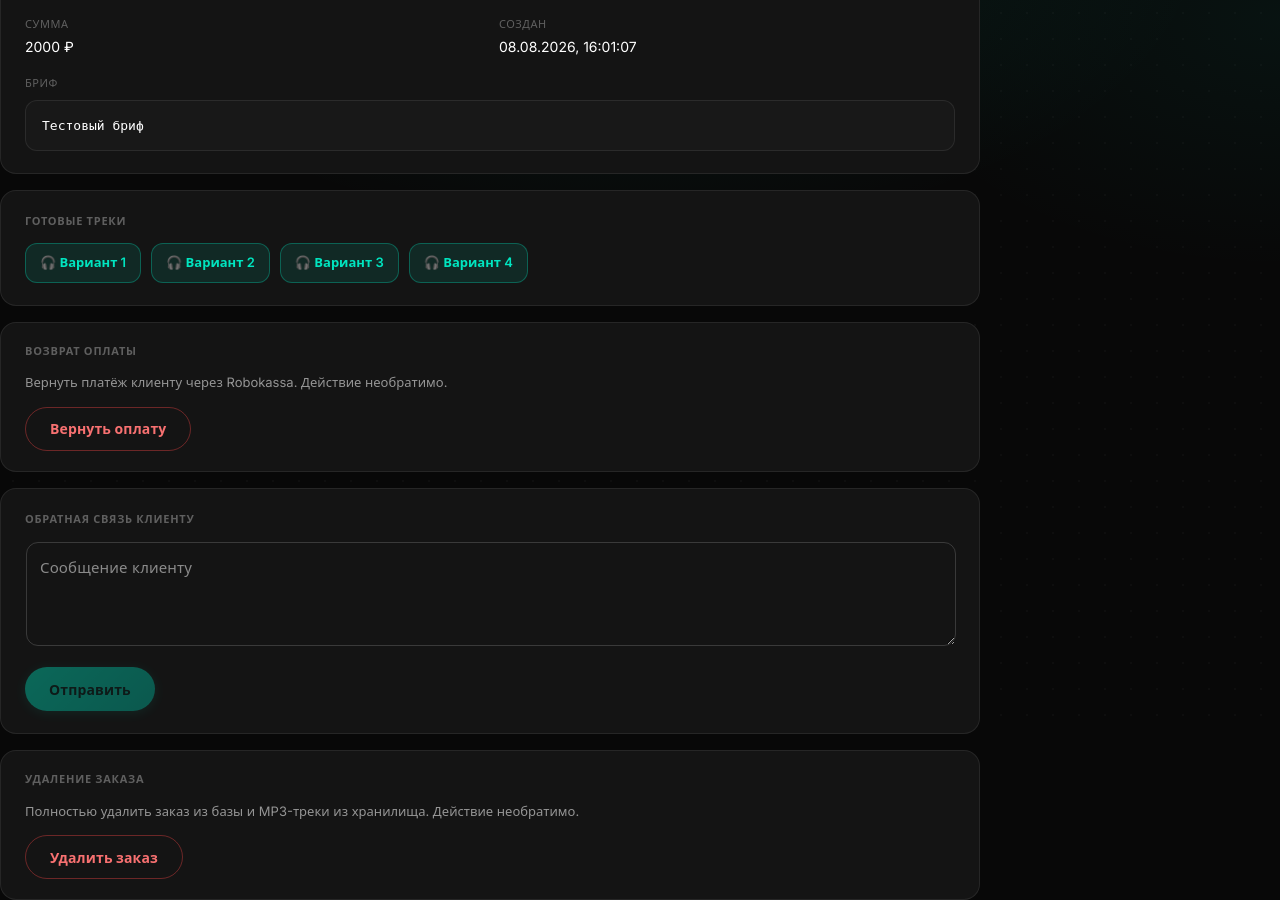
Test case: AdminOrderDetailPage › показывает ошибку, если удаление не удалось
The width and height of the screenshot is (1280, 900).
(page scrolled)
Click the button "Удалить заказ". click: (104, 857)
box: [25,835,183,879]
(page scrolled)
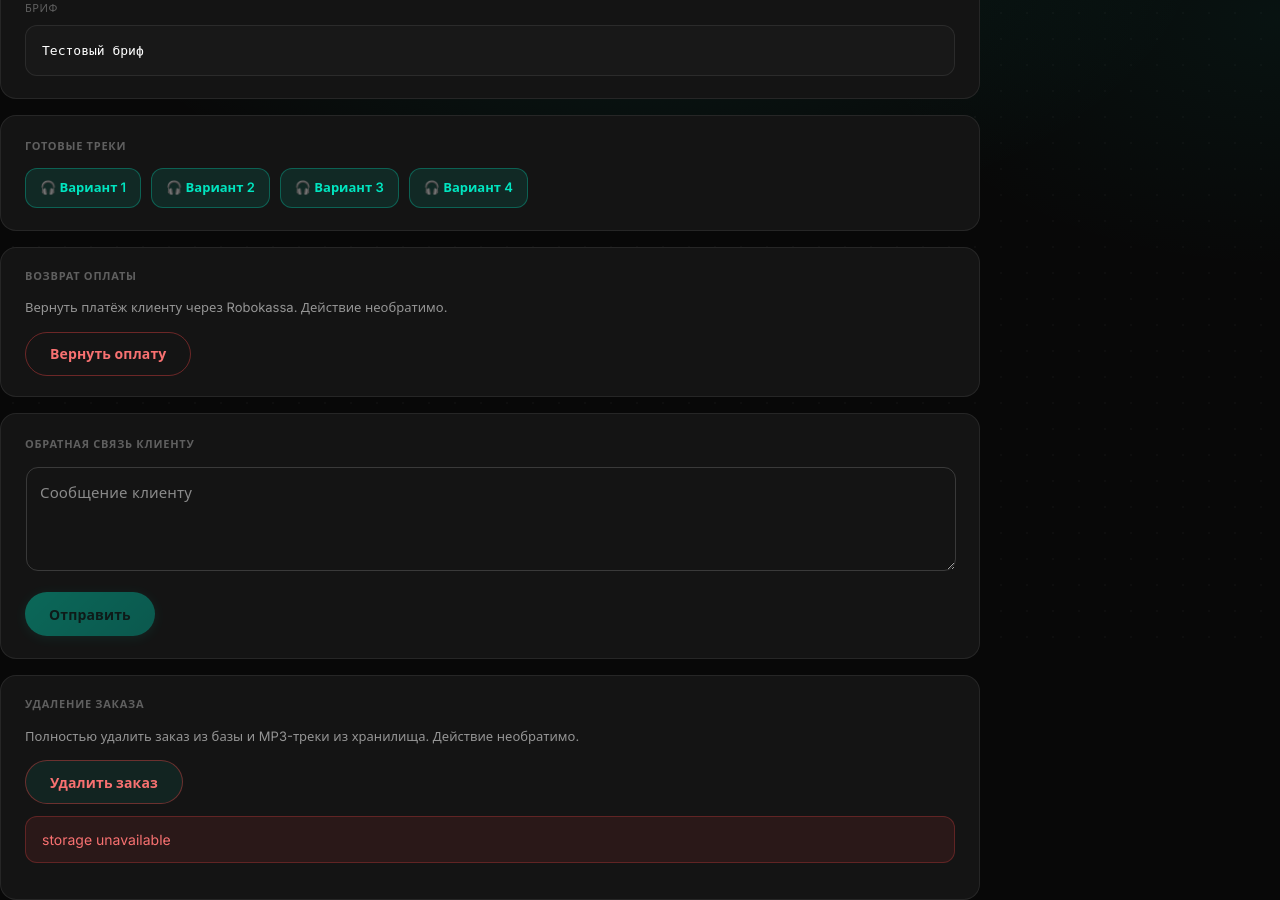
Check: the text "storage unavailable" is shown, box [25,816,955,863]
